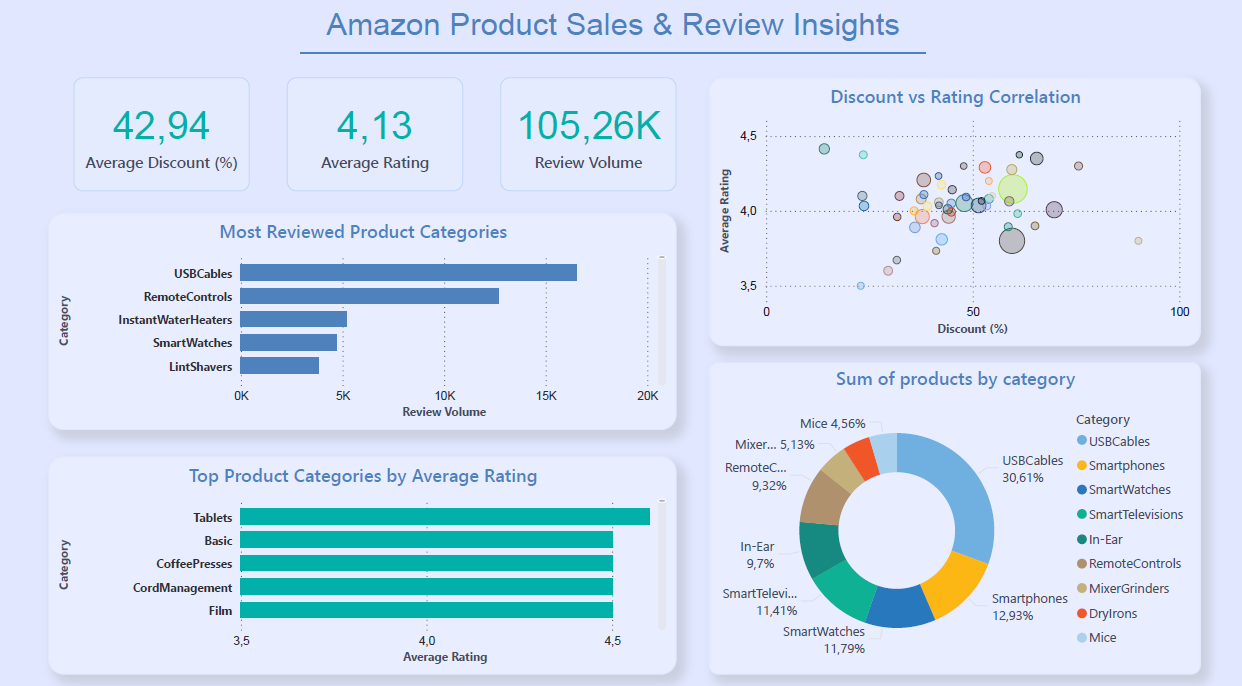

The page's visual inventory and layout, read from the dashboard file:
{"tool":"powerbi","page":{"name":"Amazon Product Insights","canvas":[1280,720],"ordinal":0},"visuals":[{"type":"donutChart","fields":{"Category":["amazon_summary.category"],"Y":["Sum(amazon_summary.products)"]},"box":[729.9,375.1,504.8,320.4],"z":0},{"type":"scatterChart","title":"Discount vs Rating Correlation","fields":{"X":["amazon_summary.avg_discount_pct"],"Y":["amazon_summary.avg_rating"],"Series":["amazon_summary.category"],"Size":["Sum(amazon_summary.review_volume)"]},"box":[729.9,82.8,504.8,276.6],"z":1000},{"type":"barChart","title":"Top Product Categories by Average Rating","fields":{"Category":["amazon_summary.category"],"Y":["Avg(amazon_summary.avg_rating)"]},"box":[51.6,472,645.5,223.5],"z":2000},{"type":"barChart","title":"Most Reviewed Product Categories","fields":{"Category":["amazon_summary.category"],"Y":["Sum(amazon_summary.review_volume)"]},"box":[51.6,221.9,645.5,223.5],"z":3000},{"type":"card","fields":{"Values":["Sum(amazon_summary.review_volume)"]},"box":[515.8,82.8,181.3,117.2],"z":4000},{"type":"card","fields":{"Values":["Avg(amazon_summary.avg_rating)"]},"box":[297,82.8,181.3,117.2],"z":5000},{"type":"card","fields":{"Values":["Avg(amazon_summary.avg_discount_pct)"]},"box":[78.1,82.8,181.3,117.2],"z":6000},{"type":"textbox","box":[311,0,642.4,73.5],"z":7000},{"type":"shape","box":[311,34.4,642.4,48.5],"z":8000}]}

Visuals, with their boxes in screenshot pixels (x1, y1, x2, y2), scaled from the page's 1280x720 canvas onto the 1242x686 screenshot:
donutChart - amazon_summary.category x Sum(amazon_summary.products): box=[708, 357, 1198, 663]
"Discount vs Rating Correlation" scatterChart: box=[708, 79, 1198, 342]
"Top Product Categories by Average Rating" barChart: box=[50, 450, 676, 663]
"Most Reviewed Product Categories" barChart: box=[50, 211, 676, 424]
card - Sum(amazon_summary.review_volume): box=[500, 79, 676, 191]
card - Avg(amazon_summary.avg_rating): box=[288, 79, 464, 191]
card - Avg(amazon_summary.avg_discount_pct): box=[76, 79, 252, 191]
textbox: box=[302, 0, 925, 70]
shape: box=[302, 33, 925, 79]
